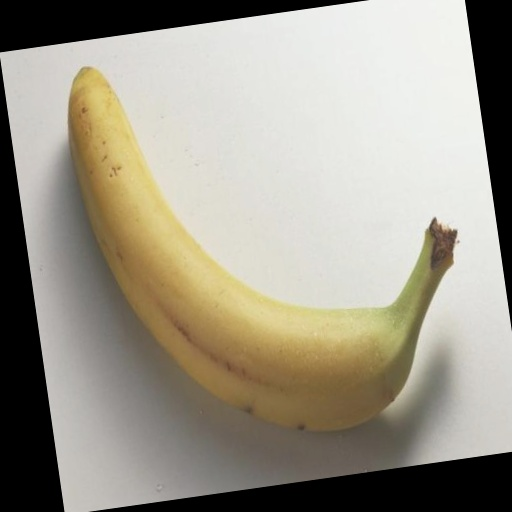fruit: (68, 68, 455, 430)
